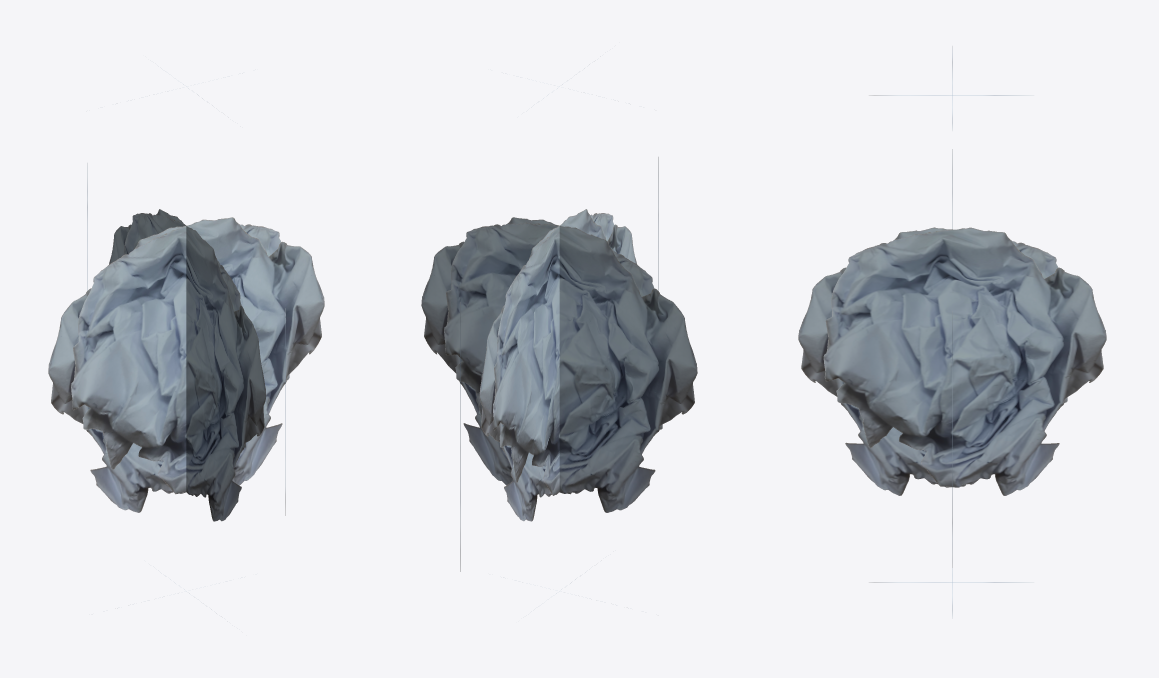
Rendered from Dust.fbx.
3 views of the same model, side by side, from view 1: azimuth 30°, elevation 25°; view 2: azimuth 150°, elevation 25°; view 3: azimuth 270°, elevation 25° (orthographic). The views are drawn at different scales.
Visible parts, largest first — view 1: Box002; view 2: Box002; view 3: Box002.
Boxes of the visible parts, <box> form: Box002: <box>48,68,324,613</box>; Box002: <box>421,64,697,609</box>; Box002: <box>798,46,1106,618</box>.
Bounding box in the file's own units: 29.65 × 41.53 × 29.65.
1 material, 1 textured.
